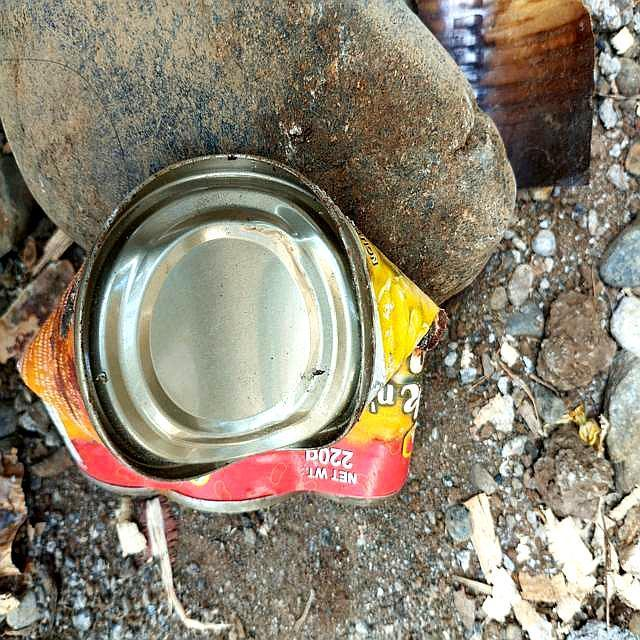Non-biodegradable: (13, 149, 443, 511)
